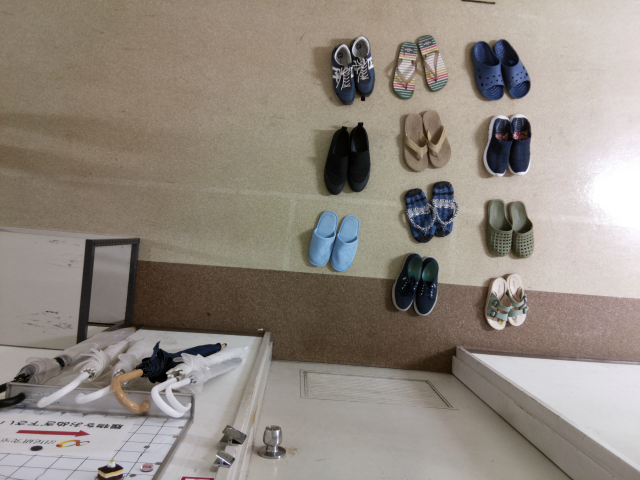Copy of Copy of Copy of Copy of Copy of Copy of Copy of Copy of Copy of Copy of: (467, 36, 506, 104), (494, 36, 533, 104), (385, 35, 424, 103), (413, 30, 452, 97), (344, 120, 375, 194), (321, 123, 352, 197), (327, 42, 361, 108), (483, 115, 518, 179), (346, 34, 380, 99), (421, 105, 453, 172), (397, 108, 427, 175)
Copy of Copy of Copy of Copy of Copy of Copy of Copy of Copy of Copy of shoe: (505, 111, 540, 175)
Copy of Copy of Copy of Copy of Copy of Copy of Copy of Copy of shoe: (502, 198, 538, 262)
Copy of Copy of Copy of Copy of Copy of Copy of Copy of shoe: (478, 195, 514, 259)
Copy of Copy of Copy of Copy of Copy of Copy of shoe: (426, 178, 462, 238)
Copy of Copy of Copy of Copy of Copy of shoe: (305, 207, 340, 273), (399, 186, 436, 245)
Copy of Copy of Copy of Copy of shoe: (328, 209, 363, 275)
Copy of Copy of Copy of shoe: (393, 250, 423, 316)
Copy of Copy of shoe: (412, 254, 442, 320)
Copy of shoe: (483, 270, 513, 337)
shoe: (501, 267, 531, 334)
